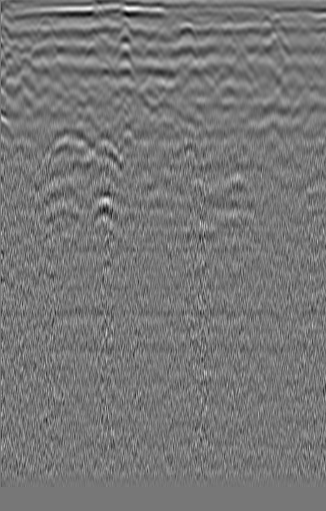가스: (88, 190, 122, 220)
상수: (11, 25, 38, 53)
오수: (283, 37, 315, 59)
우수: (139, 27, 170, 59)
